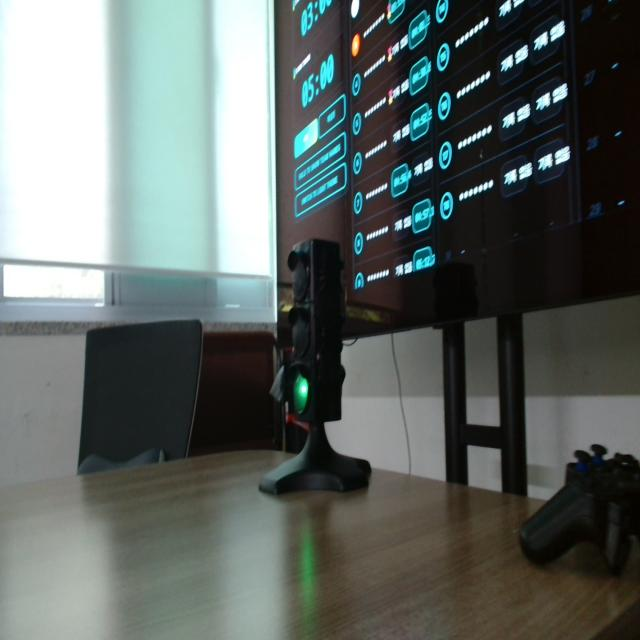green_light: (294, 374, 308, 413)
